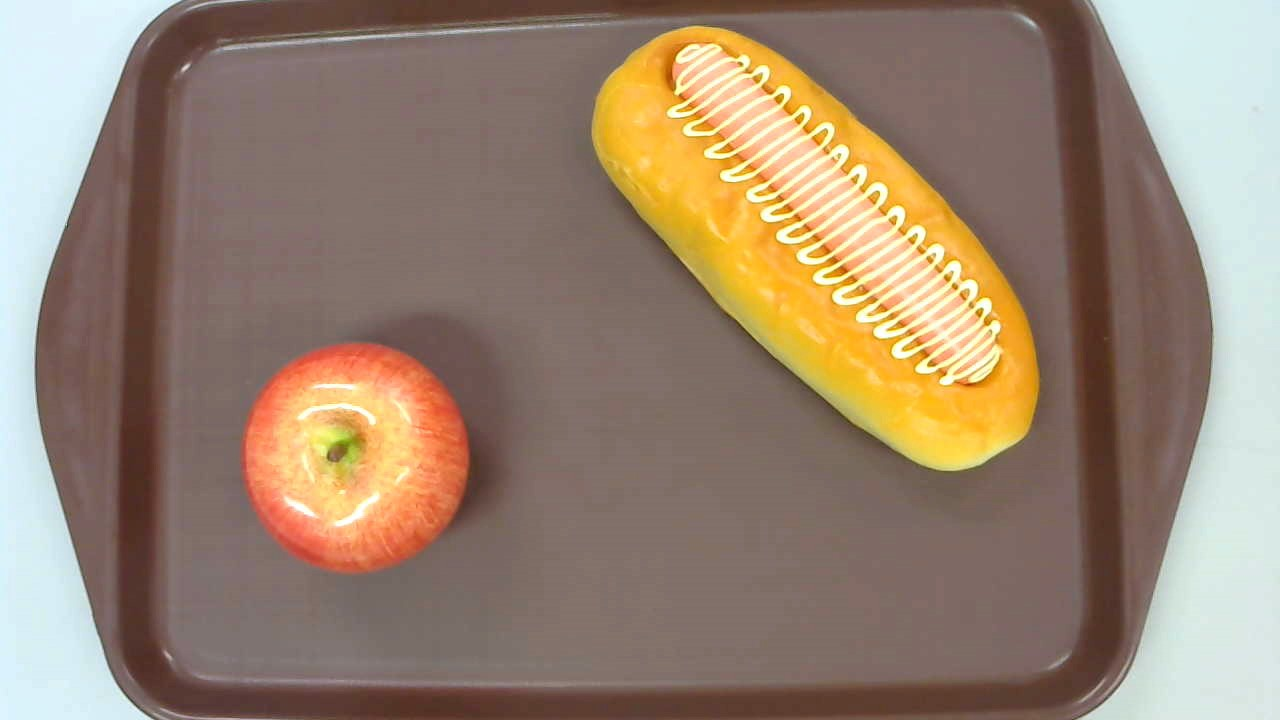hot dog: (589, 25, 1039, 472)
red apple: (242, 343, 469, 576)
